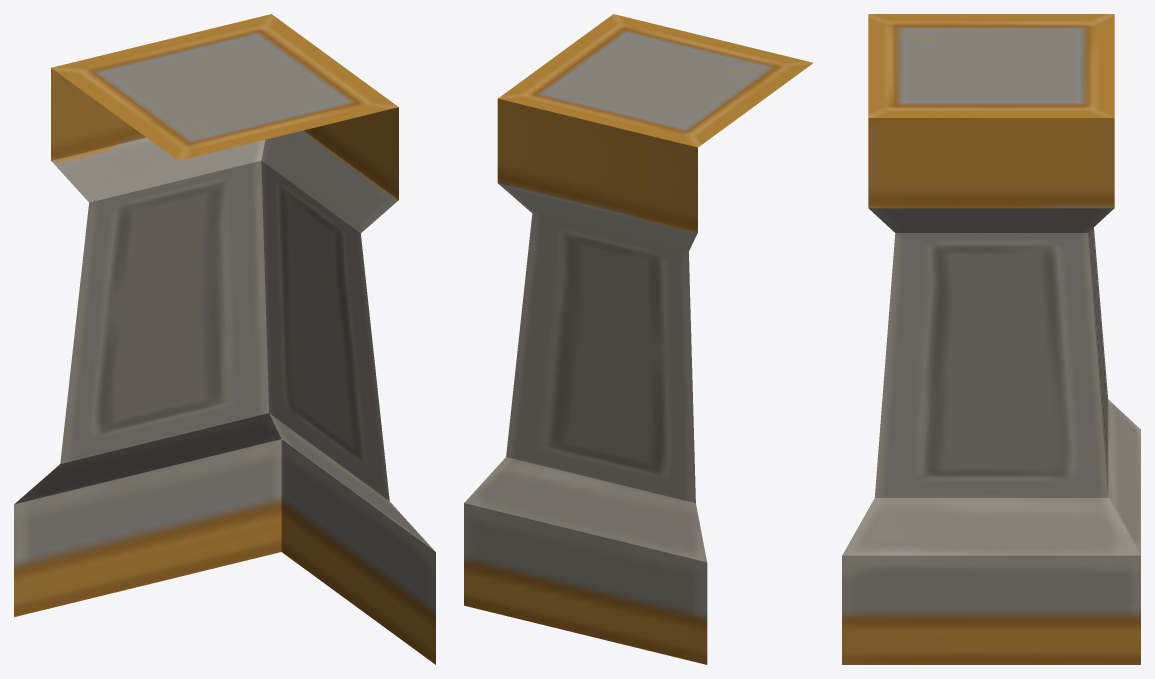
The model's file is sea_pillar_4.FBX.
3 views of the same model, side by side, from view 1: azimuth 30°, elevation 25°; view 2: azimuth 150°, elevation 25°; view 3: azimuth 270°, elevation 25° (orthographic). The views are drawn at different scales.
Visible parts, largest first — view 1: Object156; view 2: Object156; view 3: Object156.
Part boxes in pixels (<box>): Object156: <box>14,14,435,664</box>; Object156: <box>464,14,813,664</box>; Object156: <box>842,14,1140,664</box>.
Size of the model in its own units: 27.02 by 27.02 by 53.47.
